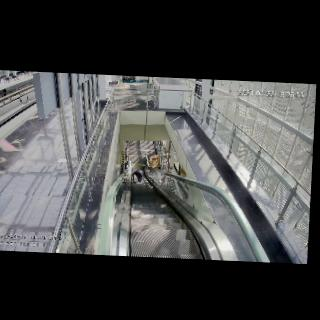anomaly: (132, 166, 145, 185)
